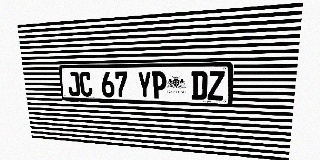6: (101, 72, 115, 97)
7: (114, 71, 128, 98)
C: (79, 72, 93, 97)
D: (191, 71, 207, 100)
J: (67, 72, 80, 96)
P: (152, 71, 166, 99)
Y: (137, 71, 152, 98)
Z: (207, 71, 225, 100)
